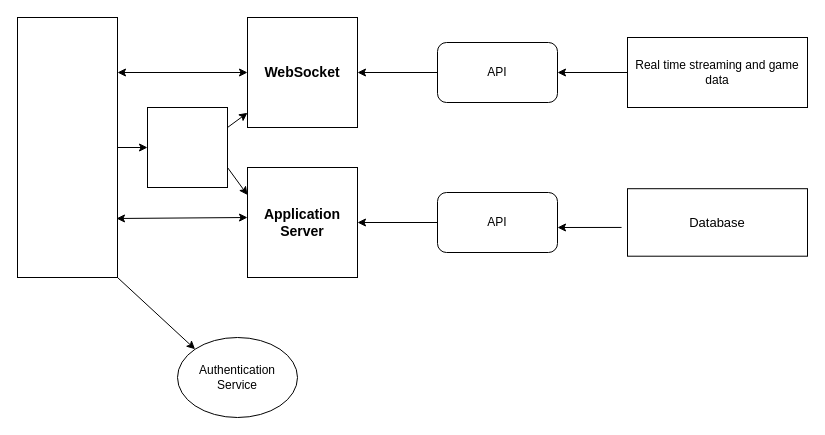
Some shapes in this 825 by 435 pixel diagram are drawn without their labels. Here are the shapes that lost their labels. From the top down, the box of each, then its label:
(16, 16, 118, 278): Frontend (Web,Mobile)
(146, 106, 228, 188): Load Balancer (Optional)
